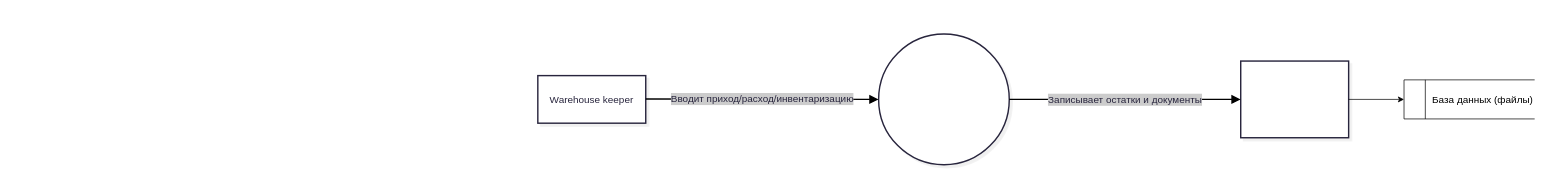
Image size: 1547x180. Some labels were removed from this diagram. The shapes that lost their labels are listed below. From the top down, each one's centre as x and y in pixels, then its label:
At pixel 945 100: "Складские операции".
At pixel 1296 100: "==1C: Торговля и склад== (файл .1CD на FileServer)".
